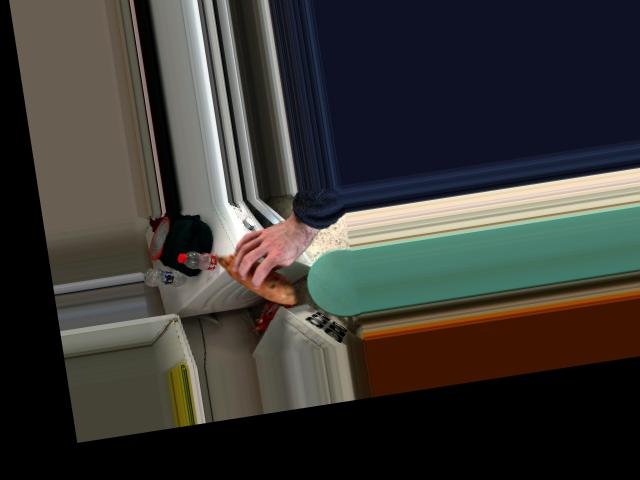sweet_potato: (217, 231, 287, 311)
